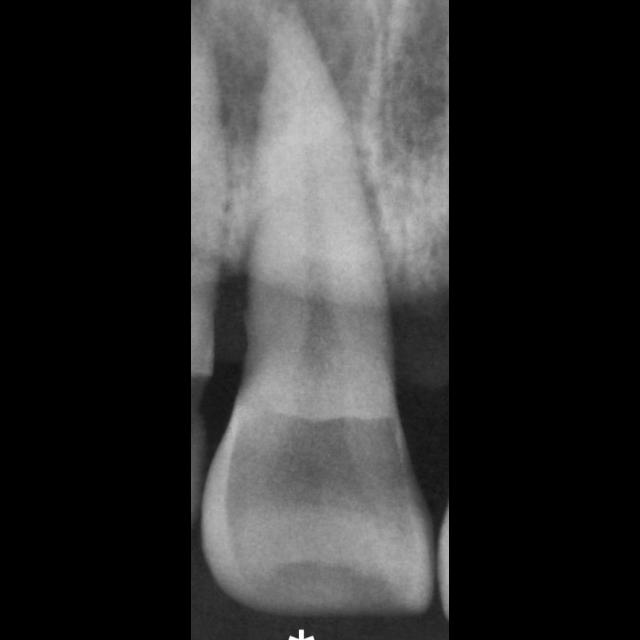tooth: (202, 0, 436, 618)
